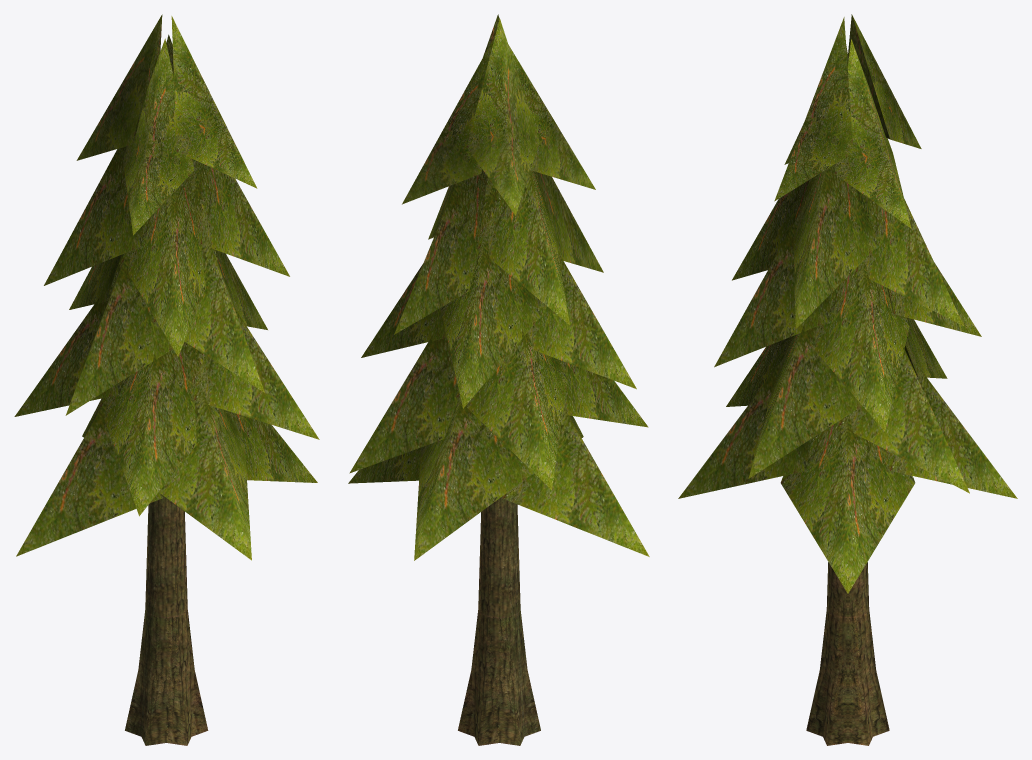
The model's file is Tree01.FBX.
3 renders of one model, left to right at view 1: azimuth 30°, elevation 25°; view 2: azimuth 150°, elevation 25°; view 3: azimuth 270°, elevation 25°, orthographic.
Parts seen in each view (by area): view 1: Tree01; view 2: Tree01; view 3: Tree01.
Boxes of the visible parts, left/top/right/bottom form: Tree01: left=14, top=14, right=319, bottom=745; Tree01: left=348, top=14, right=649, bottom=745; Tree01: left=678, top=14, right=1017, bottom=745.
Bounding box in the file's own units: 248 × 561 × 242.
